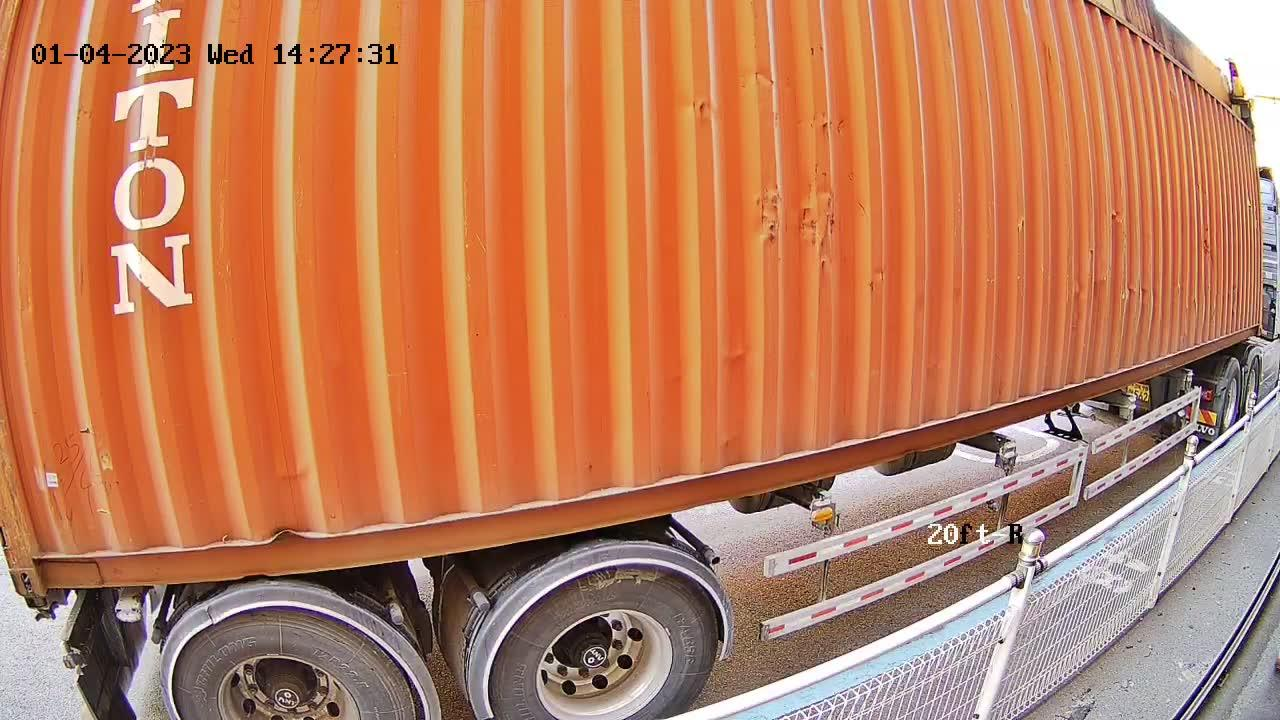Cone: (20, 591, 58, 626)
Hole_L: (0, 533, 90, 595)
Tire: (491, 570, 715, 719), (172, 610, 413, 718)
